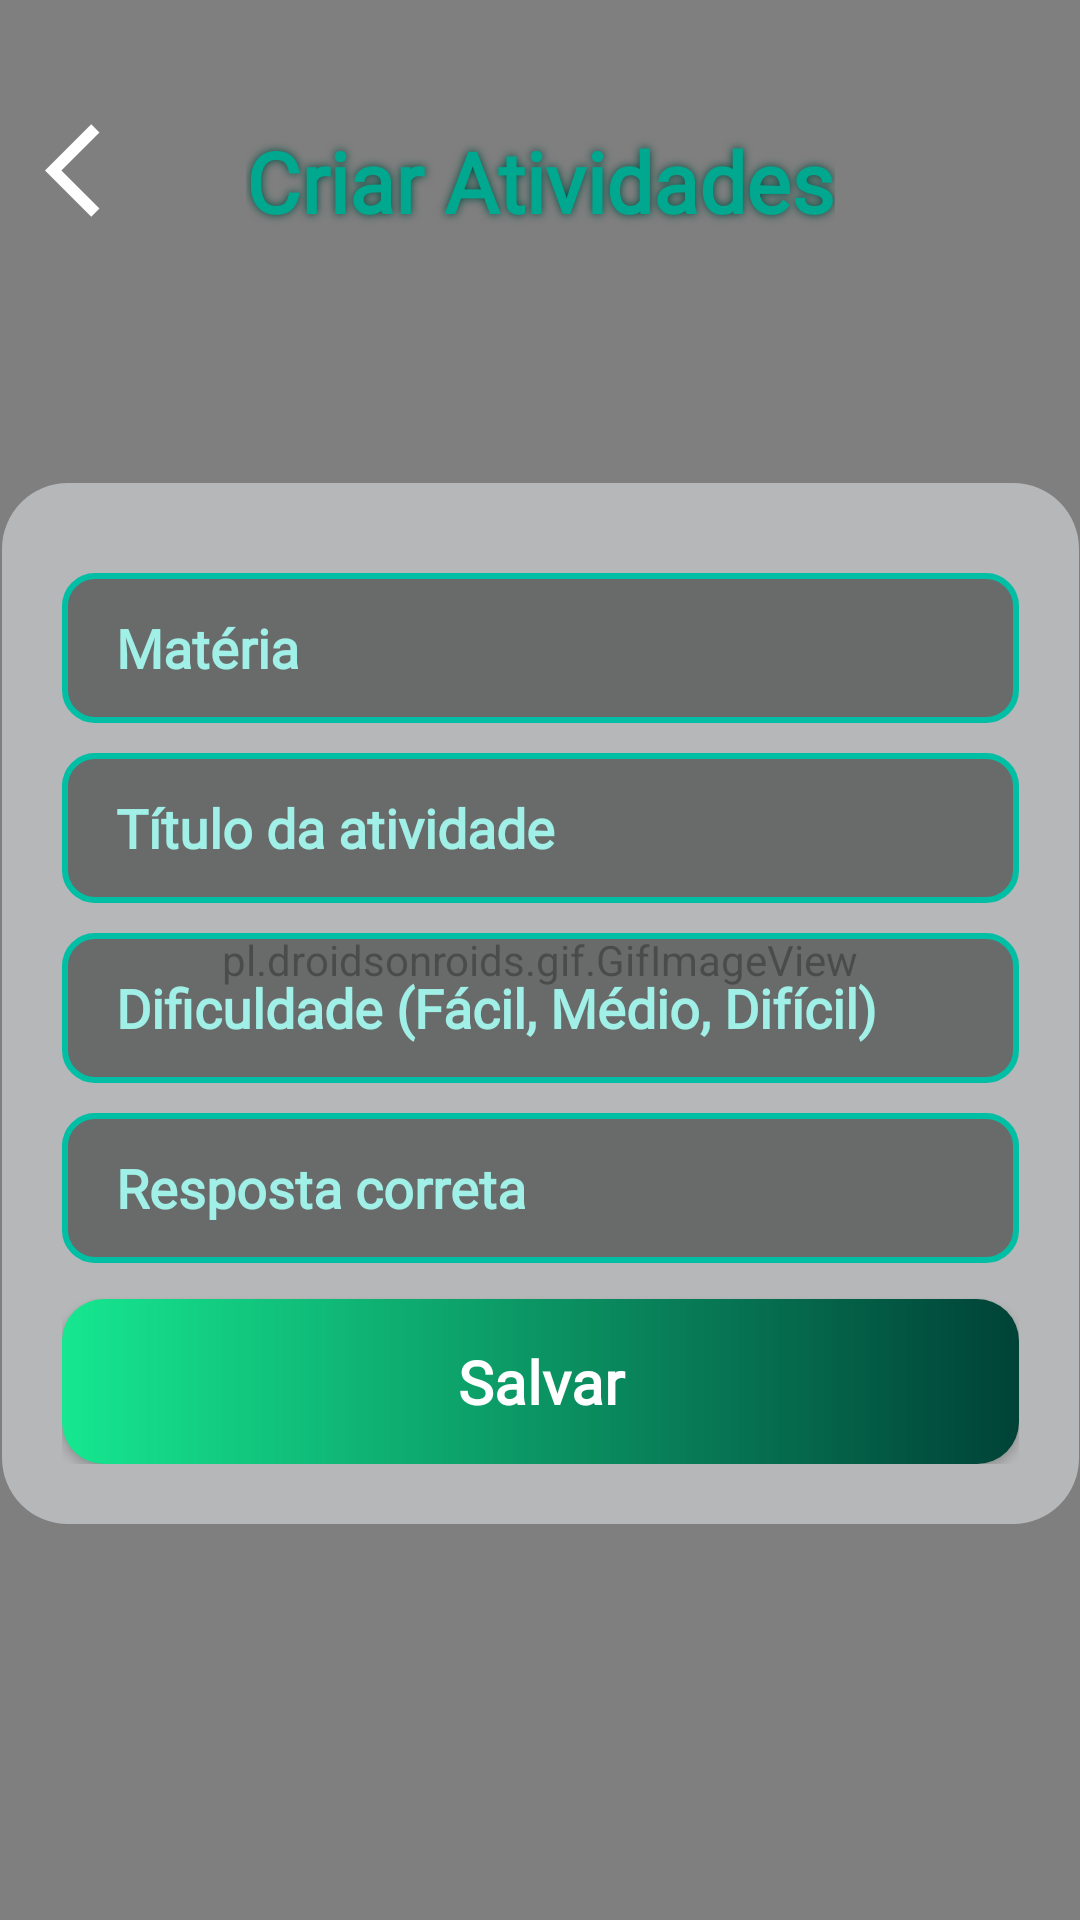

Point at icon controls on the screen. Image size 1080px x 1920px, points as [x,y].
voltar: [72,170]
